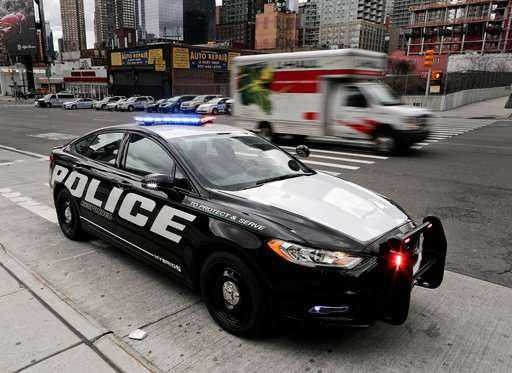Police Car: (19, 87, 427, 343)
